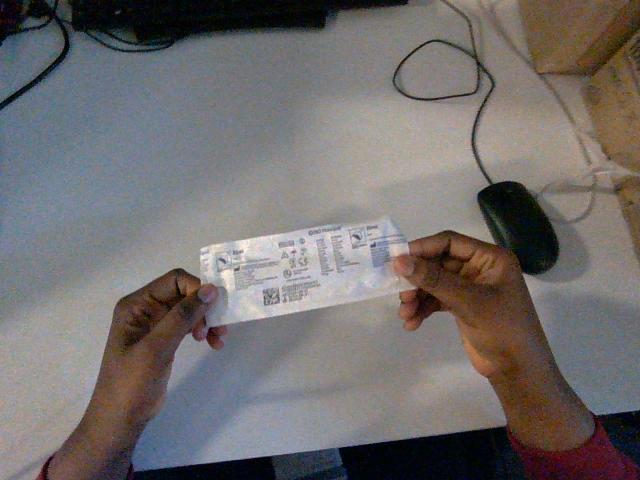syringe: (200, 217, 413, 325)
